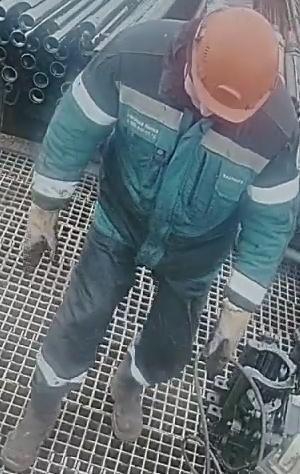gloves: (204, 299, 253, 379), (20, 199, 61, 273)
helmet: (189, 6, 280, 123)
vest: (82, 18, 298, 279)
